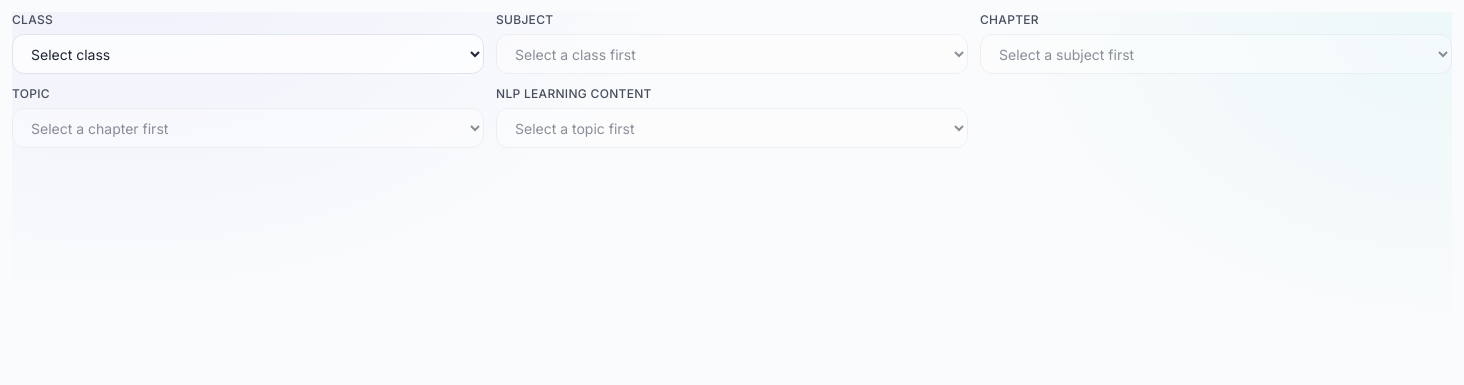
ContentPicker cascade › loads each level from the one above and reports the full selection
expect the dropdown labelled "Subject" is disabled: met, box [496,34,968,74]
Select "Grade 10 — Section A · Class X" in the dropdown labelled "Class" at (248, 54), box [12,34,484,74]
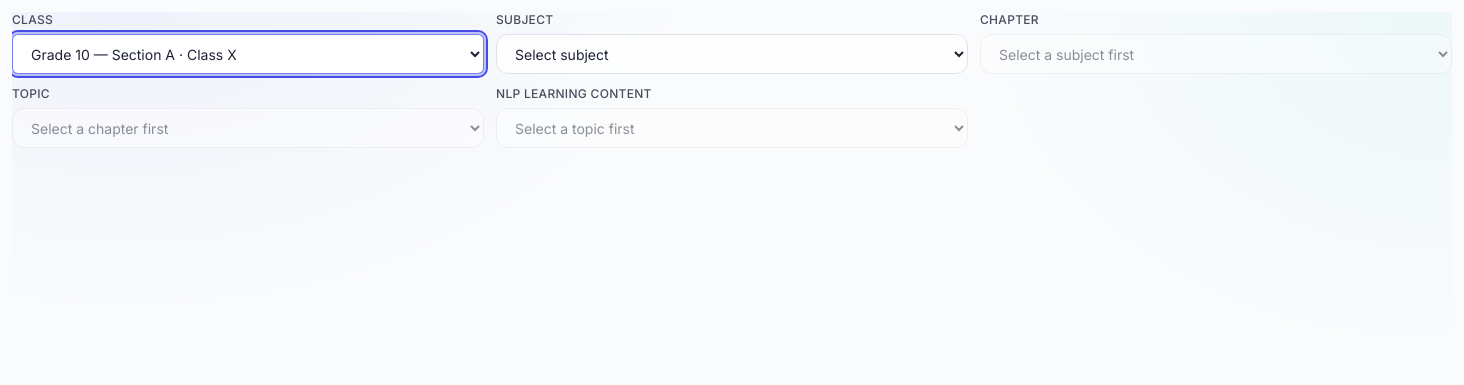
Select "Physics → General Science" in the dropdown labelled "Subject" at (732, 54), box [496,34,968,74]
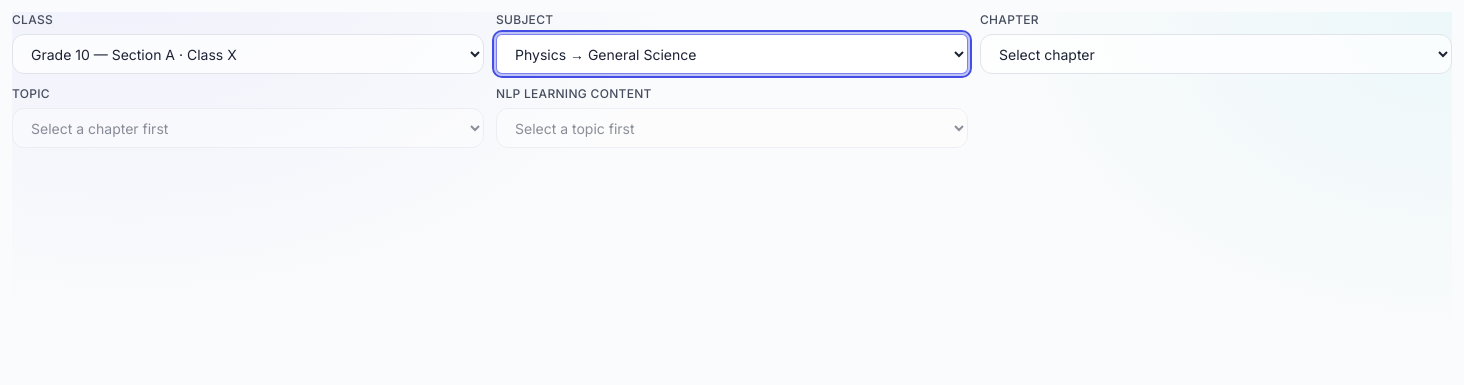
expect the dropdown labelled "Chapter" is enabled: met
Select "Electricity" in the dropdown labelled "Chapter" at (1216, 54), box [980,34,1452,74]
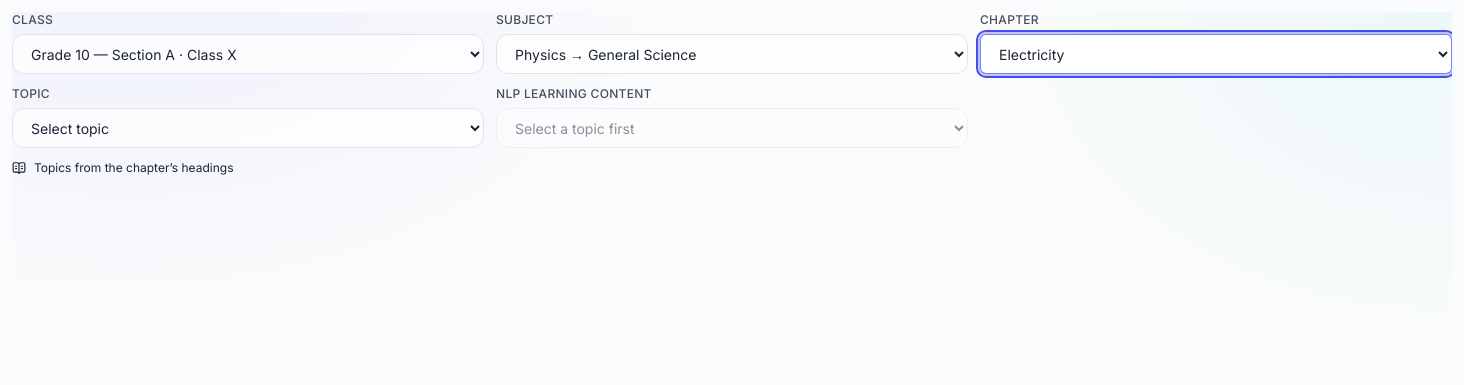
expect the dropdown labelled "Topic" is enabled: met
Select "11.1 Electric Current Circuit" in the dropdown labelled "Topic" at (248, 128), box [12,108,484,148]
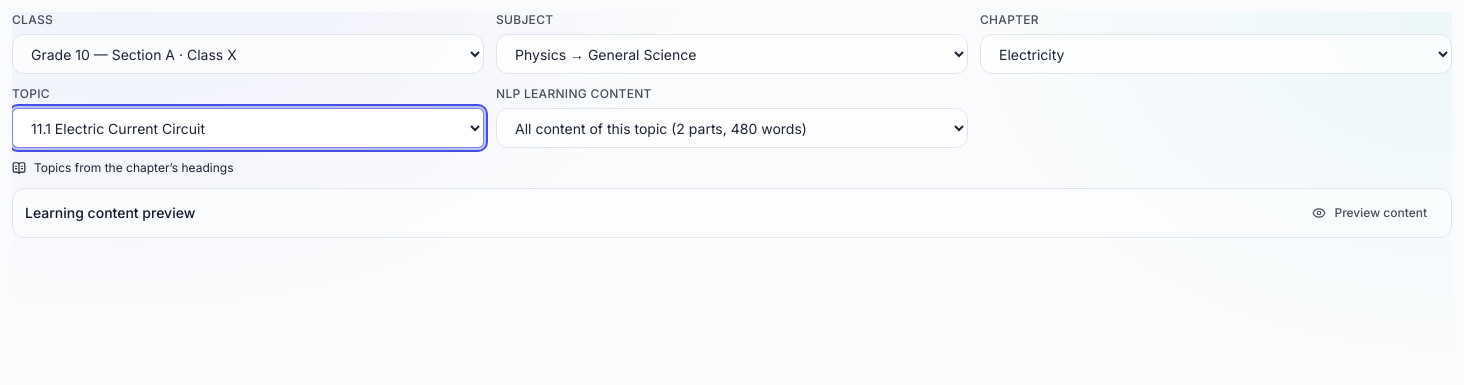
expect the dropdown labelled "NLP learning content" is enabled: met
Select "Part 2 · circuit (240 words)" in the dropdown labelled "NLP learning content" at (732, 128), box [496,108,968,148]
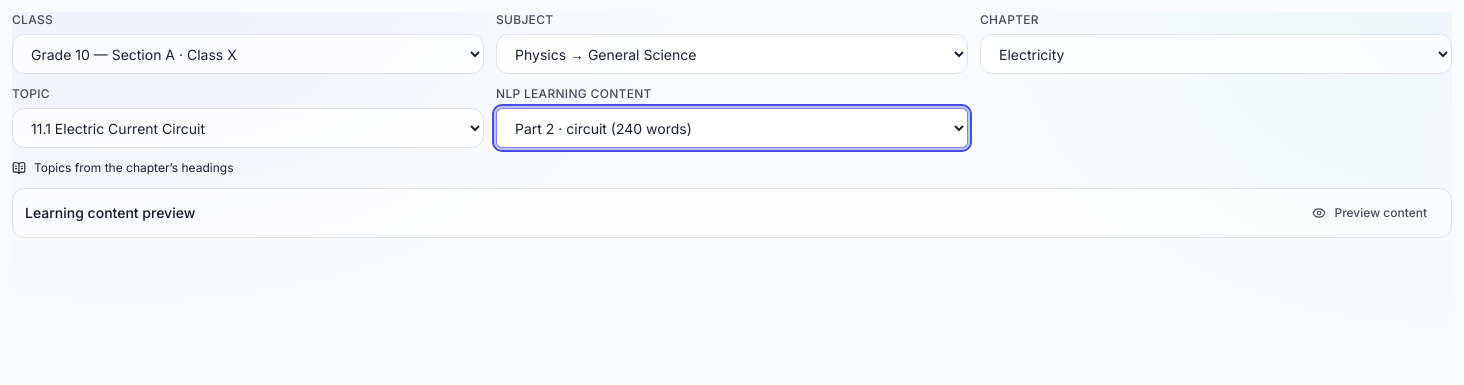
Click the button "Preview content" at (1370, 213), box [1300,197,1439,229]
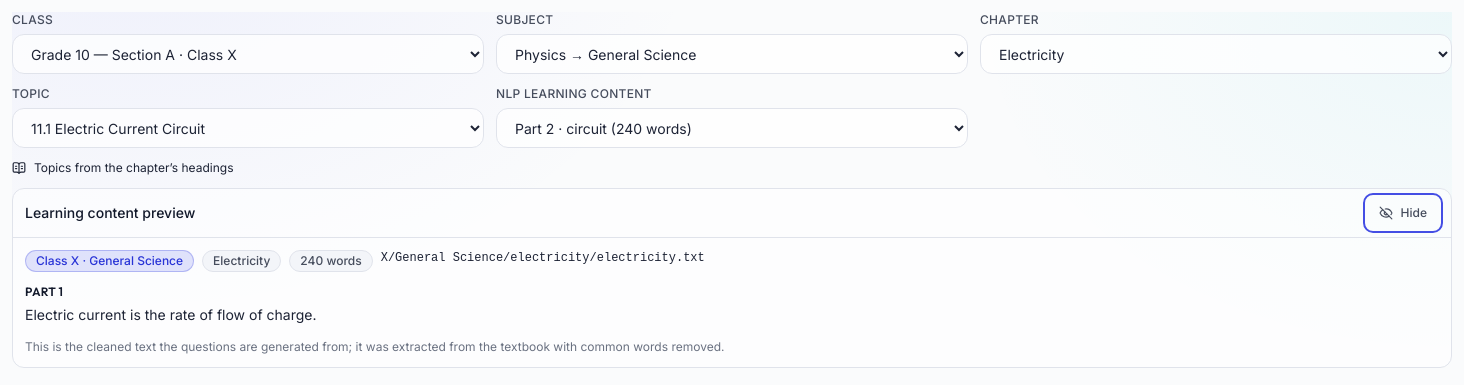
expect the text "Electric current is the rate of flow of charge." is shown: met, box [25,306,316,323]
